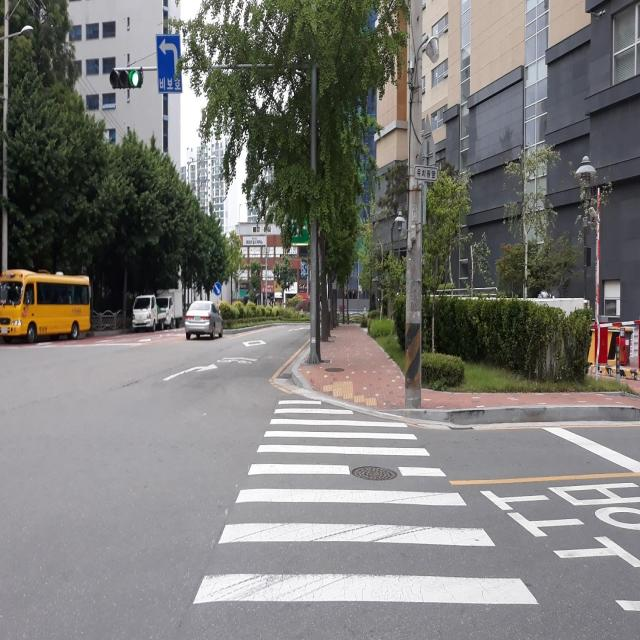횡단보도: (189, 393, 543, 610)
